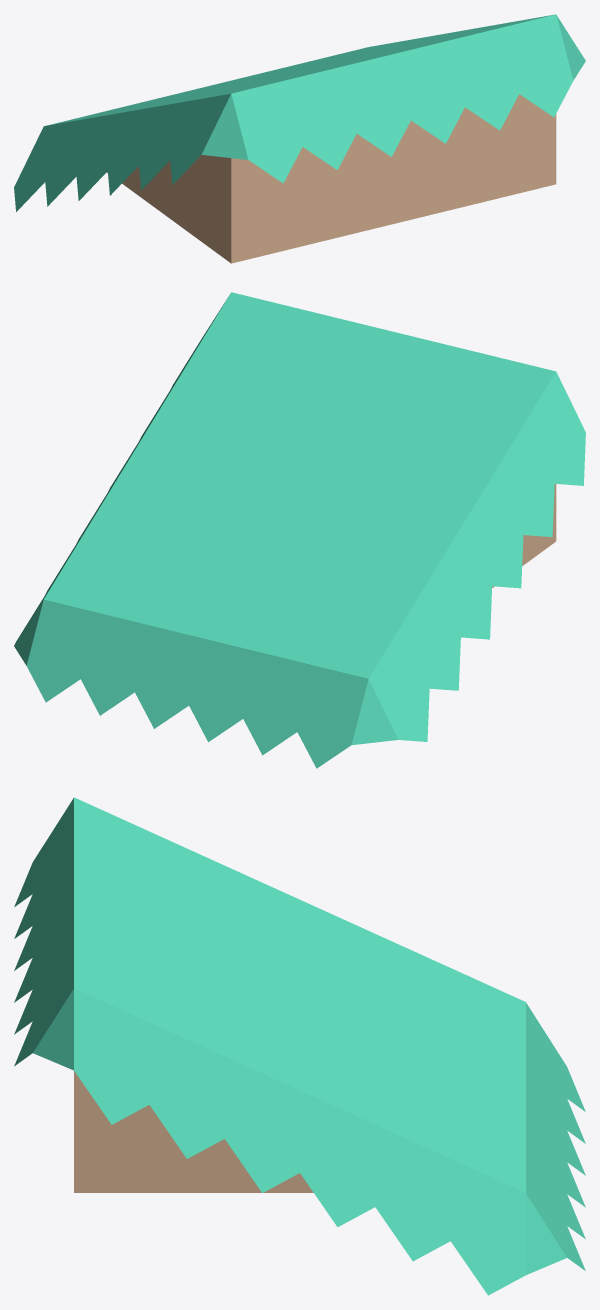
The model's file is blockSlopeHalf.glb.
3 views of the same model, one above another, from view 1: azimuth 30°, elevation 25°; view 2: azimuth 150°, elevation 25°; view 3: azimuth 270°, elevation 25° (orthographic). The views are drawn at different scales.
Visible parts, largest first — view 1: blockSlopeHalf(Clone); view 2: blockSlopeHalf(Clone); view 3: blockSlopeHalf(Clone).
Boxes of the visible parts, x1,y1,x2,y2 form: blockSlopeHalf(Clone): (14,14,585,263); blockSlopeHalf(Clone): (14,292,585,768); blockSlopeHalf(Clone): (14,797,585,1295).
Bounding box in the file's own units: 1.27 × 0.7304 × 1.27.
